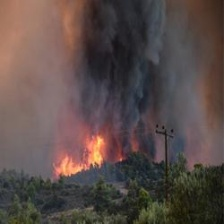fire: (50, 134, 107, 177)
smoke: (77, 1, 172, 126)
